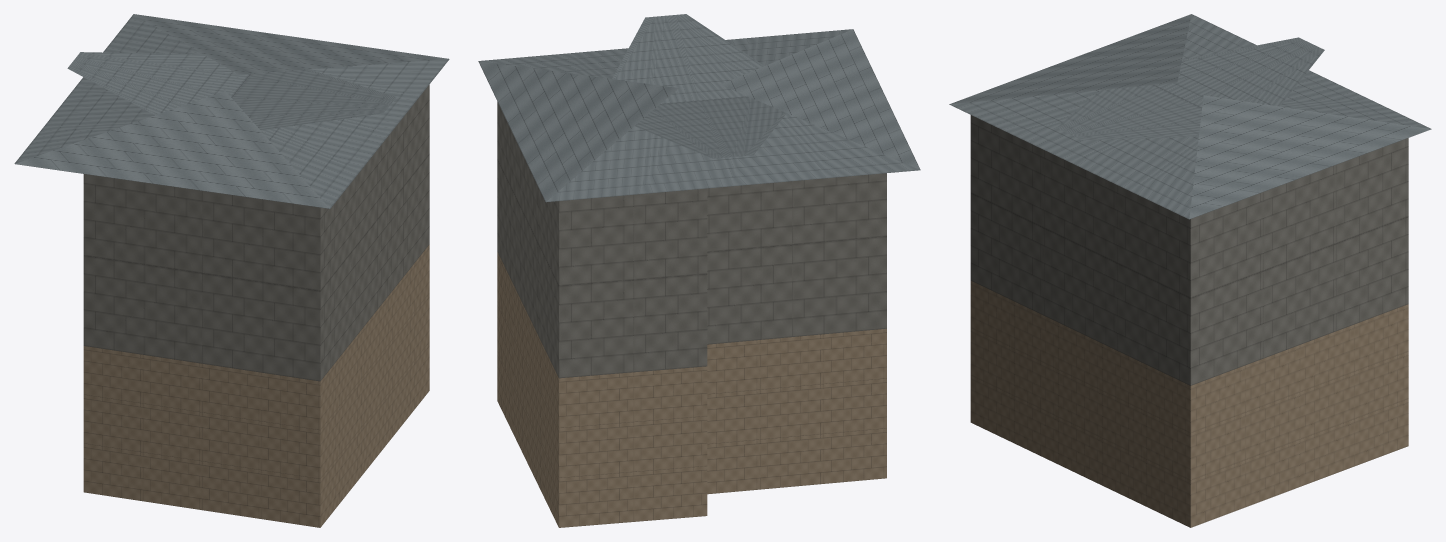
File: bld_c8_18_428.gltf
The picture shows the model from 3 angles, left to right: view 1: azimuth 30°, elevation 25°; view 2: azimuth 150°, elevation 25°; view 3: azimuth 270°, elevation 25°; orthographic projection. The views are drawn at different scales.
Visible parts, largest first — view 1: bld_c8_18_428; view 2: bld_c8_18_428; view 3: bld_c8_18_428.
Part boxes in pixels (x1=…): bld_c8_18_428: x1=14, y1=14, x2=449, y2=527; bld_c8_18_428: x1=478, y1=14, x2=920, y2=527; bld_c8_18_428: x1=949, y1=14, x2=1431, y2=527.
Bounding box in the file's own units: 15.83 × 12.4 × 15.71.
3 materials, 3 textured.
